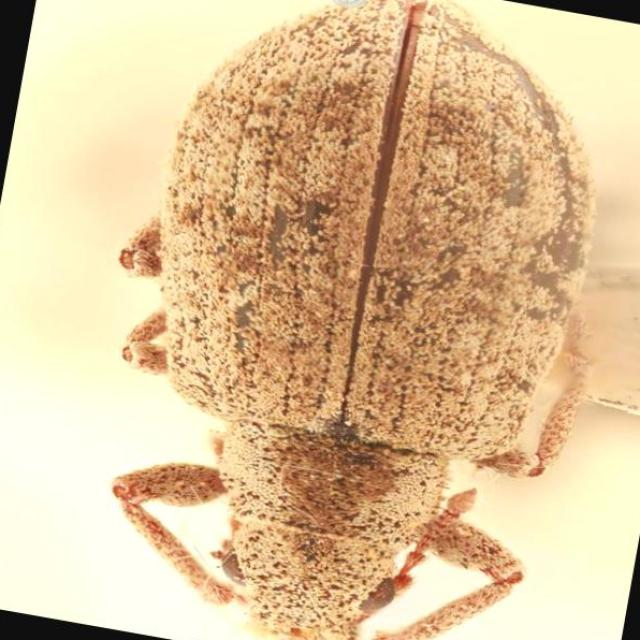ricebug: (123, 0, 593, 640)
